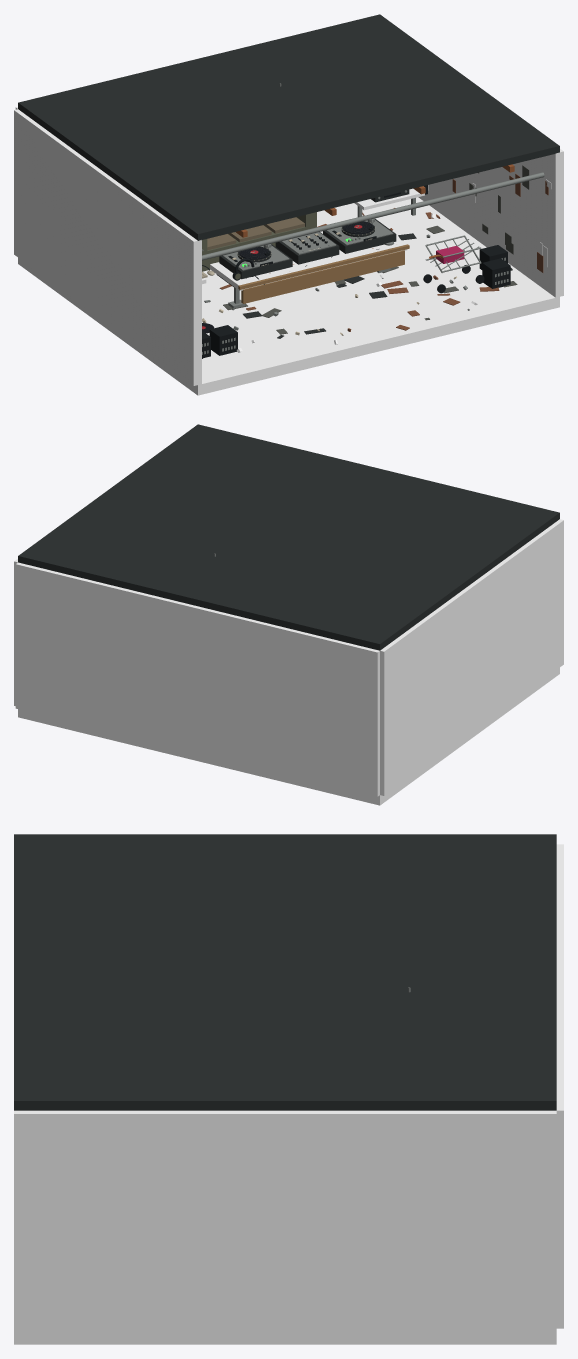
File: moopGangClubHousePhotoMatch1.glb
The picture shows the model from 3 angles, top to bottom: view 1: azimuth 30°, elevation 25°; view 2: azimuth 150°, elevation 25°; view 3: azimuth 270°, elevation 25°; orthographic projection. The views are drawn at different scales.
Parts seen in each view (by area): view 1: Ceiling, Floor slab, Left wall, Right wall, Desk front apron, Horizontal ceiling pipe.002, DJ desk main top, Desk front lip, Milk crate.002, Milk crate.001, DJ mixer chassis, LEFT DECK chassis (+5 smaller); view 2: Ceiling, Back wall, Left wall, Floor slab; view 3: Ceiling, Right wall, Floor slab, Back wall.
Boxes of the visible parts, bbox=[...] form: Ceiling: bbox=[18, 14, 559, 240]; Floor slab: bbox=[18, 197, 559, 395]; Left wall: bbox=[14, 109, 201, 385]; Right wall: bbox=[418, 149, 563, 297]; Desk front apron: bbox=[241, 250, 404, 303]; Horizontal ceiling pipe.002: bbox=[202, 172, 544, 260]; DJ desk main top: bbox=[210, 237, 407, 290]; Desk front lip: bbox=[238, 244, 409, 289]; Milk crate.002: bbox=[482, 258, 510, 288]; Milk crate.001: bbox=[209, 325, 237, 355]; DJ mixer chassis: bbox=[275, 232, 339, 264]; LEFT DECK chassis: bbox=[219, 244, 292, 279]; Ceiling: bbox=[18, 424, 559, 650]; Back wall: bbox=[15, 562, 379, 796]; Left wall: bbox=[380, 519, 563, 795]; Floor slab: bbox=[18, 667, 559, 805]; Ceiling: bbox=[14, 834, 556, 1110]; Right wall: bbox=[14, 1110, 556, 1331]; Floor slab: bbox=[14, 1331, 556, 1344]; Back wall: bbox=[556, 844, 563, 1328].
Size of the model in its own units: 12.48 by 5.29 by 10.64.
